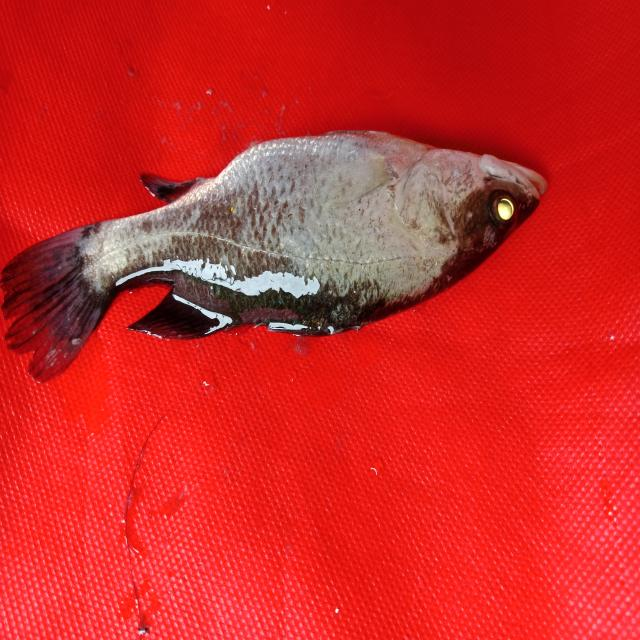ikan: (13, 117, 556, 395)
